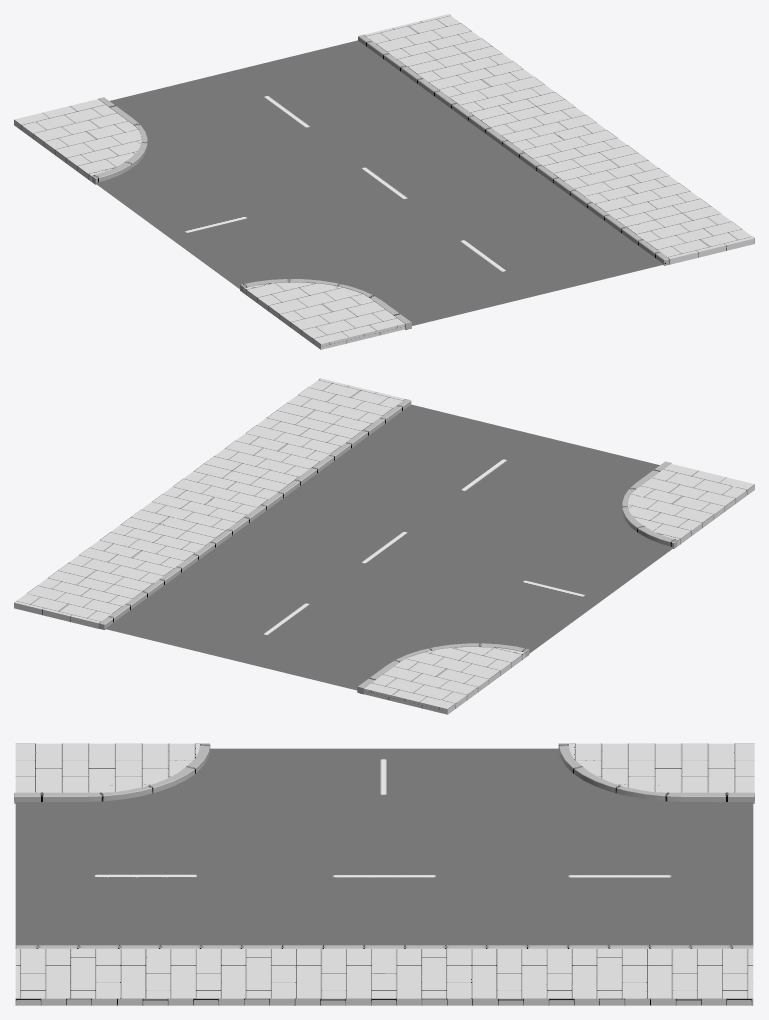
File: Road Tjunction 1.fbx
The picture shows the model from 3 angles, top to bottom: view 1: azimuth 30°, elevation 25°; view 2: azimuth 150°, elevation 25°; view 3: azimuth 270°, elevation 25°; orthographic projection. The views are drawn at different scales.
Visible parts, largest first — view 1: pPlane2, pCube8, pPlane3, pCube7, pCube10, pCube9, pCube6, pCube5; view 2: pPlane2, pCube8, pPlane3, pCube10, pCube7, pCube9, pCube5, pCube6; view 3: pPlane2, pCube8, pPlane3, pCube10, pCube7, pCube9, pCube5, pCube6.
Part boxes in pixels (<box>): pPlane2: <box>110,40,664,325</box>; pCube8: <box>364,14,754,264</box>; pPlane3: <box>94,134,357,290</box>; pCube7: <box>243,282,404,349</box>; pCube10: <box>14,99,141,181</box>; pCube9: <box>358,34,669,265</box>; pCube6: <box>91,97,147,184</box>; pCube5: <box>240,279,411,329</box>; pPlane2: <box>105,404,659,690</box>; pCube8: <box>14,378,405,628</box>; pPlane3: <box>412,498,675,654</box>; pCube10: <box>363,647,525,714</box>; pCube7: <box>627,464,754,546</box>; pCube9: <box>99,399,411,629</box>; pCube5: <box>622,461,677,548</box>; pCube6: <box>357,643,529,694</box>; pPlane2: <box>15,801,753,945</box>; pCube8: <box>15,949,753,1005</box>; pPlane3: <box>109,748,659,800</box>; pCube10: <box>569,743,754,792</box>; pCube7: <box>15,743,199,792</box>; pCube9: <box>15,945,753,948</box>; pCube5: <box>14,743,210,803</box>; pCube6: <box>558,743,754,803</box>.
Bounding box in the file's own units: 20.46 × 0.275 × 25.12.
Materials: 3 (3 with a texture image).
